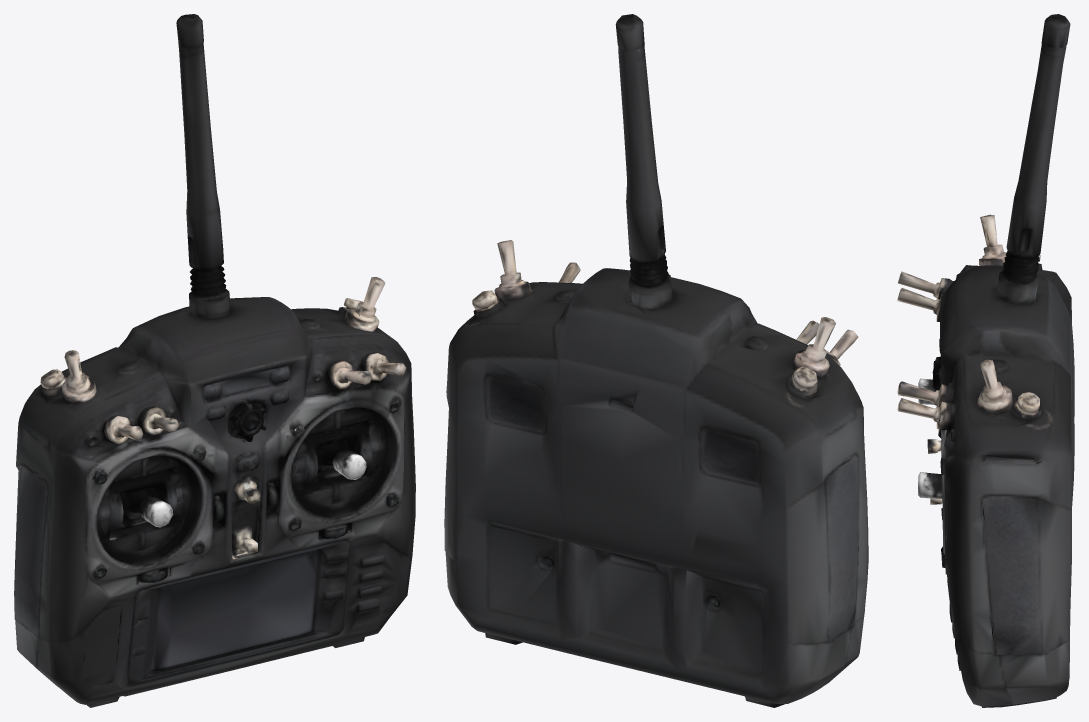
The model's file is FPV_Controller.fbx.
3 renders of one model, left to right at view 1: azimuth 30°, elevation 25°; view 2: azimuth 150°, elevation 25°; view 3: azimuth 270°, elevation 25°, orthographic. The views are drawn at different scales.
Parts seen in each view (by area): view 1: FPV_Body, FPV_Stick_Right, FPV_Stick_Left; view 2: FPV_Body; view 3: FPV_Body, FPV_Stick_Right.
Boxes of the visible parts, left/top/right/bottom form: FPV_Body: left=14, top=14, right=415, bottom=707; FPV_Stick_Right: left=332, top=449, right=366, bottom=479; FPV_Stick_Left: left=139, top=496, right=173, bottom=527; FPV_Body: left=444, top=14, right=868, bottom=707; FPV_Body: left=897, top=14, right=1074, bottom=707; FPV_Stick_Right: left=918, top=472, right=942, bottom=498.
Size of the model in its own units: 0.1999 by 0.3305 by 0.0848.
